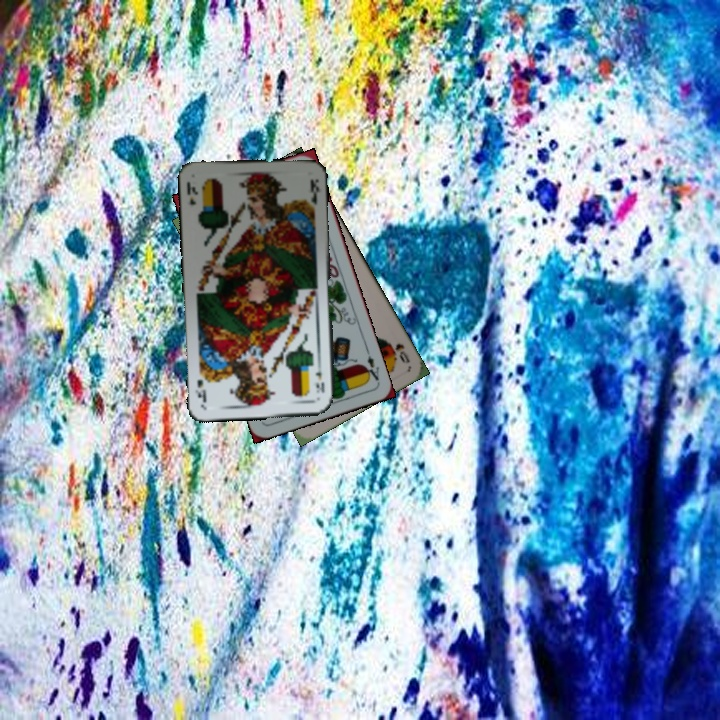EA: (360, 345, 382, 383)
EK: (311, 360, 327, 395), (183, 177, 200, 207)
SO: (385, 338, 413, 366)
